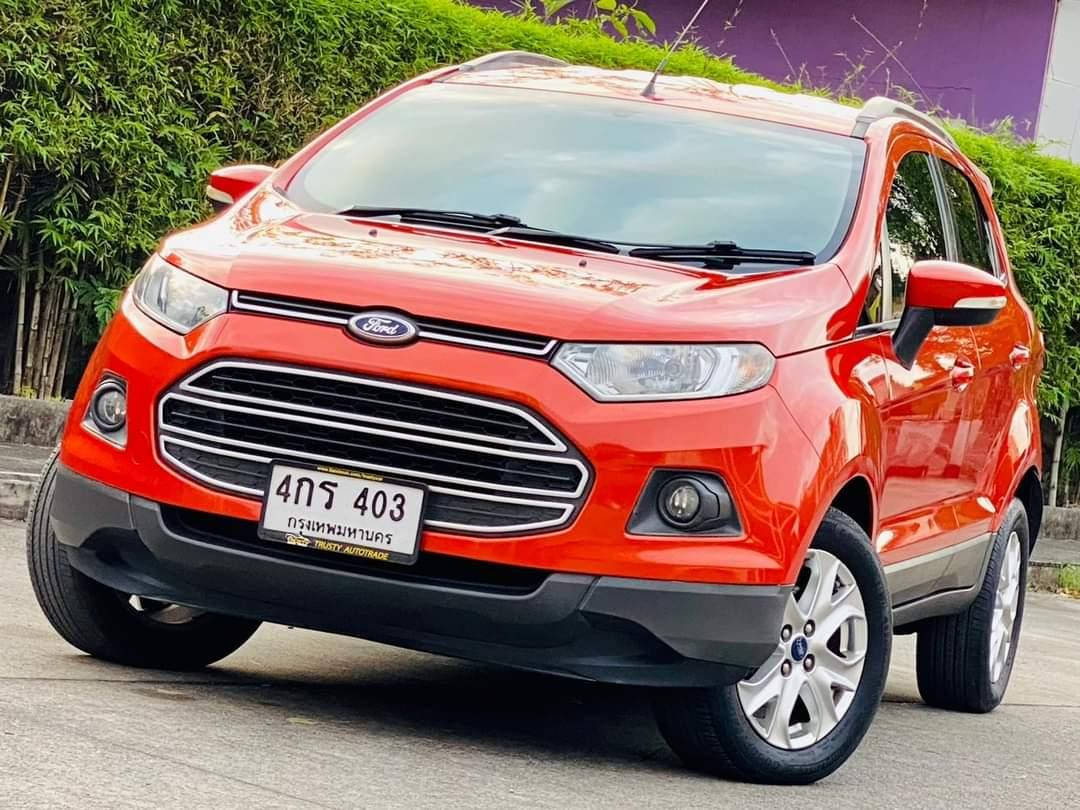license-plate: (254, 452, 430, 578)
